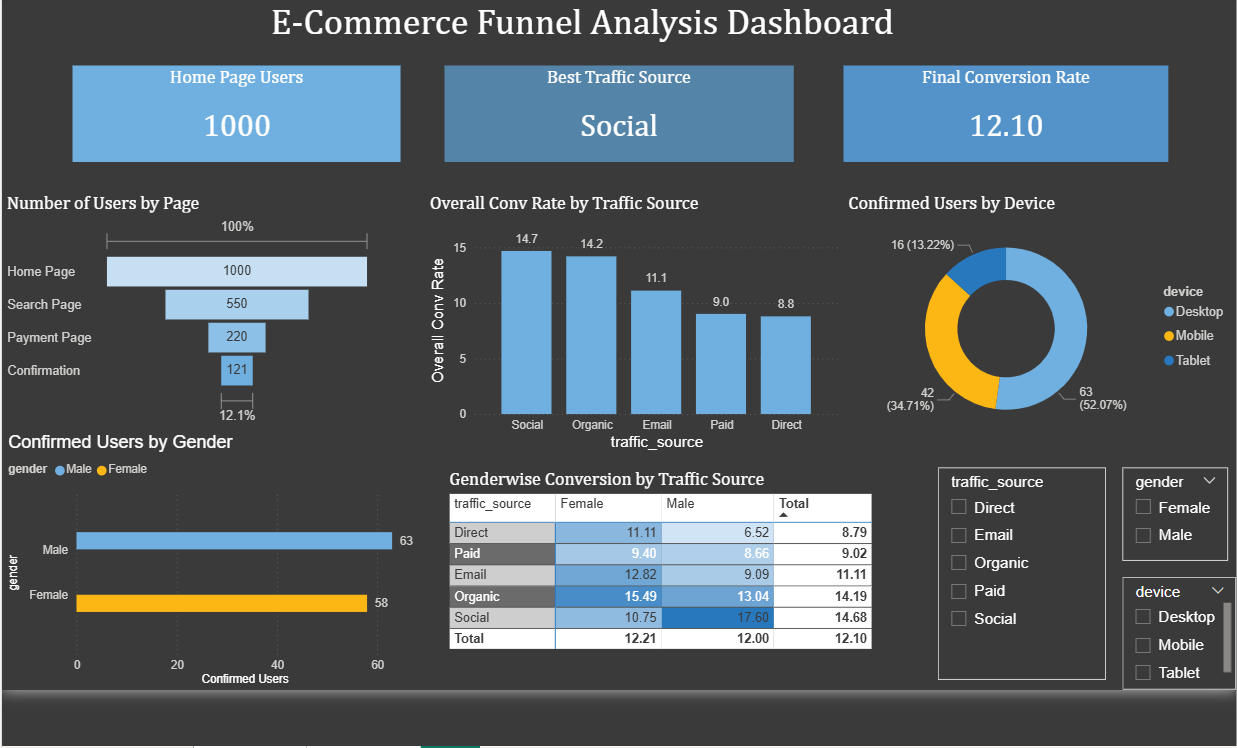

Layout of this report page (visuals, bound fields, positions):
{"tool":"powerbi","page":{"name":"Page 1","canvas":[1280,720],"ordinal":0},"visuals":[{"type":"funnel","title":"Number of Users by Page","fields":{"Category":["Funnel Summary.Step"],"Y":["Sum(Funnel Summary.Users)"]},"box":[0,204,388,246],"z":0},{"type":"clusteredBarChart","title":"Confirmed Users by Gender ","fields":{"Category":["user_table.gender"],"Y":["Funnel Summary.Confirmed Users"],"Series":["user_table.gender"]},"box":[1.7,451.7,436.7,268.3],"z":1000},{"type":"slicer","fields":{"Values":["user_table.gender"]},"box":[1161.9,489.6,109.6,96.5],"z":2000},{"type":"slicer","fields":{"Values":["user_table.device"]},"box":[1161.9,603.6,118.4,116.9],"z":3000},{"type":"clusteredColumnChart","title":"Overall Conv Rate by Traffic Source","fields":{"Category":["user_table.traffic_source"],"Y":["Funnel Summary.Overall Conv Rate"]},"box":[438.3,203.3,433.3,273.3],"z":4000},{"type":"donutChart","title":"Confirmed Users by Device","fields":{"Category":["user_table.device"],"Y":["Funnel Summary.Confirmed Users"]},"box":[871.7,203.3,408.3,261.7],"z":5000},{"type":"slicer","fields":{"Values":["user_table.traffic_source"]},"box":[970,490,174,220],"z":6000},{"type":"pivotTable","title":"Genderwise Conversion by Traffic Source","fields":{"Rows":["user_table.traffic_source"],"Columns":["user_table.gender"],"Values":["Funnel Summary.Overall Conv Rate"]},"box":[458.3,490,481.7,220],"z":7000},{"type":"actionButton","box":[0,0,100,40],"z":8000},{"type":"textbox","box":[273.3,0,696.7,54.4],"z":9000},{"type":"card","title":"Home Page Users","fields":{"Values":["Funnel Summary.Home Users"]},"box":[73.3,73.3,340,100],"z":10000},{"type":"card","title":"Best Traffic Source","fields":{"Values":["Max(user_table.traffic_source)"]},"box":[458.3,73.3,361.7,100],"z":11000},{"type":"card","title":"Final Conversion Rate","fields":{"Values":["Funnel Summary.Overall Conv Rate"]},"box":[871.7,73.3,336.7,100],"z":12000}]}

Visuals, with their boxes on the page's 1280x720 design canvas (x1, y1, x2, y2). These are canvas units, not pixel positions in the 1237x748 screenshot, which may show the page scaled, cropped or inside an application window:
"Number of Users by Page" funnel: 0/204/388/450
"Confirmed Users by Gender " clusteredBarChart: 2/452/438/720
slicer - user_table.gender: 1162/490/1272/586
slicer - user_table.device: 1162/604/1280/720
"Overall Conv Rate by Traffic Source" clusteredColumnChart: 438/203/872/477
"Confirmed Users by Device" donutChart: 872/203/1280/465
slicer - user_table.traffic_source: 970/490/1144/710
"Genderwise Conversion by Traffic Source" pivotTable: 458/490/940/710
actionButton: 0/0/100/40
textbox: 273/0/970/54
"Home Page Users" card: 73/73/413/173
"Best Traffic Source" card: 458/73/820/173
"Final Conversion Rate" card: 872/73/1208/173
